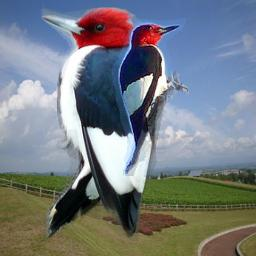Woodpecker: (41, 0, 167, 246), (105, 13, 189, 176)
